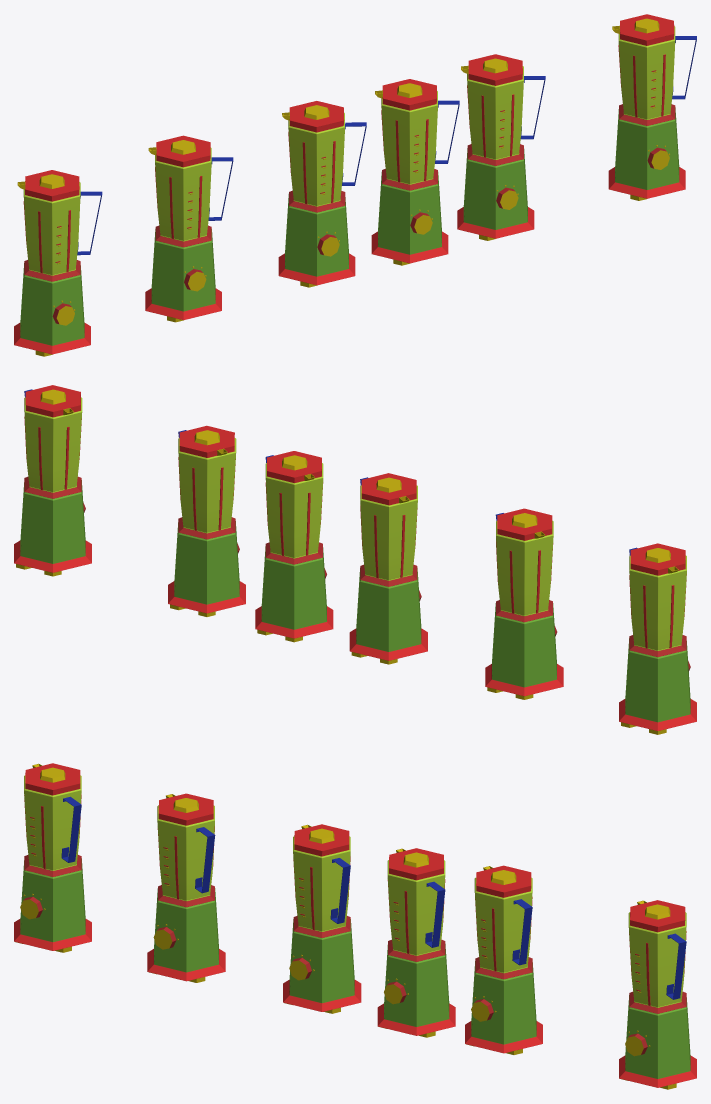
The model's file is Blenders.glb.
3 views of the same model, one above another, from view 1: azimuth 30°, elevation 25°; view 2: azimuth 150°, elevation 25°; view 3: azimuth 330°, elevation 25° (orthographic).
Visible parts, largest first — view 1: node_id50, node_id60, node_id56, node_id30, node_id58, node_id48; view 2: node_id56, node_id48, node_id50, node_id60, node_id58, node_id30; view 3: node_id56, node_id50, node_id58, node_id60, node_id48, node_id30.
Part boxes in pixels (left/top/right/bottom): node_id50: left=278, top=101, right=366, bottom=287; node_id60: left=608, top=14, right=696, bottom=200; node_id56: left=371, top=79, right=459, bottom=265; node_id30: left=14, top=170, right=102, bottom=356; node_id58: left=457, top=54, right=545, bottom=240; node_id48: left=145, top=135, right=233, bottom=322; node_id56: left=255, top=451, right=333, bottom=642; node_id48: left=485, top=508, right=563, bottom=699; node_id50: left=349, top=473, right=427, bottom=664; node_id60: left=14, top=385, right=91, bottom=576; node_id58: left=168, top=425, right=245, bottom=616; node_id30: left=619, top=543, right=696, bottom=734; node_id56: left=377, top=848, right=455, bottom=1037; node_id50: left=283, top=824, right=361, bottom=1013; node_id58: left=465, top=865, right=542, bottom=1054; node_id60: left=619, top=900, right=696, bottom=1089; node_id48: left=147, top=793, right=225, bottom=982; node_id30: left=14, top=763, right=91, bottom=952.
Size of the model in its own units: 0.8913 by 0.2174 by 0.0882.
1 material, 1 textured.
